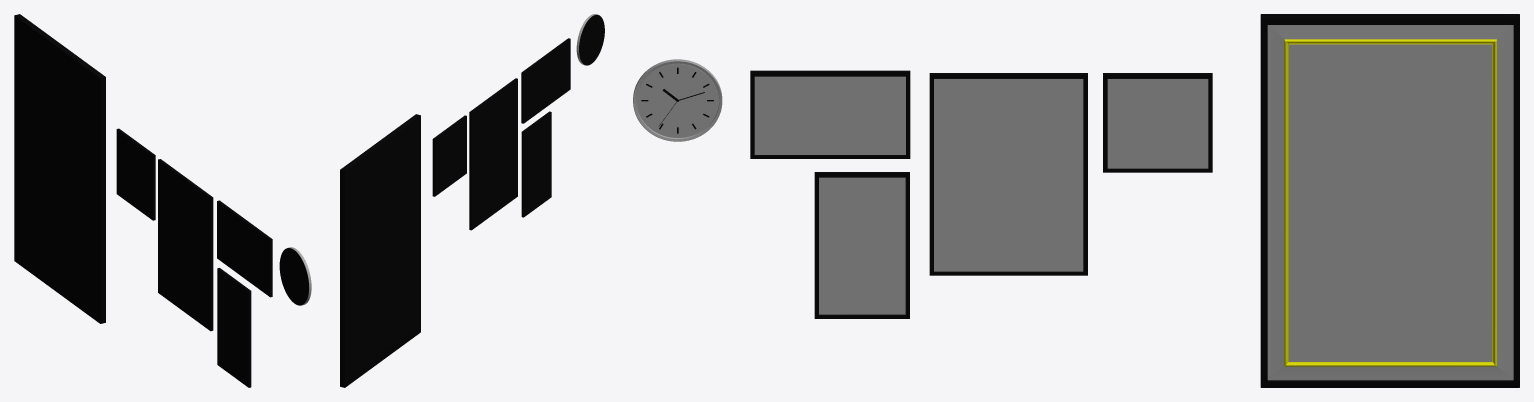
The model's file is Frames.fbx.
3 renders of one model, left to right at view 1: azimuth 30°, elevation 25°; view 2: azimuth 150°, elevation 25°; view 3: azimuth 270°, elevation 25°, orthographic. The views are drawn at different scales.
Visible parts, largest first — view 1: polySurface14, Rectangle2106773824, Rectangle2106773828, Rectangle2106773823, Rectangle2106773825, polySurface12; view 2: polySurface14, Rectangle2106773824, Rectangle2106773828, Rectangle2106773823, Rectangle2106773825, polySurface12; view 3: polySurface13, polySurface14, polySurface15, polySurface16, polySurface18, polySurface17, polySurface12, Rectangle2106773824, Rectangle2106773823, Rectangle2106773828, Rectangle2106773825.
Boxes of the visible parts, x1,y1,x2,y2 form: polySurface14: [14, 14, 105, 323]; Rectangle2106773824: [158, 159, 213, 331]; Rectangle2106773828: [217, 268, 251, 387]; Rectangle2106773823: [217, 200, 272, 297]; Rectangle2106773825: [116, 128, 155, 220]; polySurface12: [279, 247, 311, 305]; polySurface14: [340, 114, 420, 387]; Rectangle2106773824: [469, 78, 517, 230]; Rectangle2106773828: [521, 111, 551, 217]; Rectangle2106773823: [521, 38, 570, 123]; Rectangle2106773825: [432, 115, 466, 196]; polySurface12: [576, 14, 604, 65]; polySurface13: [1289, 44, 1492, 361]; polySurface14: [1260, 14, 1519, 387]; polySurface15: [934, 79, 1083, 271]; polySurface16: [754, 76, 905, 154]; polySurface18: [819, 177, 905, 314]; polySurface17: [1107, 79, 1208, 168]; polySurface12: [633, 59, 722, 141]; Rectangle2106773824: [929, 73, 1087, 275]; Rectangle2106773823: [750, 70, 910, 158]; Rectangle2106773828: [814, 172, 909, 318]; Rectangle2106773825: [1103, 73, 1212, 172].
Bounding box in the file's own units: 3.14 × 129 × 280.
